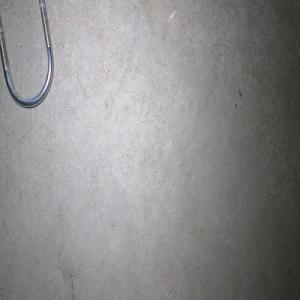ClampPart: (0, 0, 54, 109)
